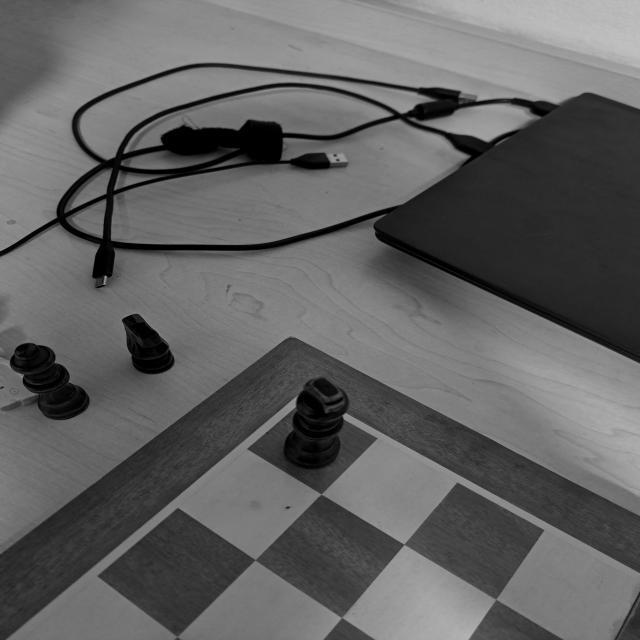chess-table-corners: (262, 378, 360, 430)
